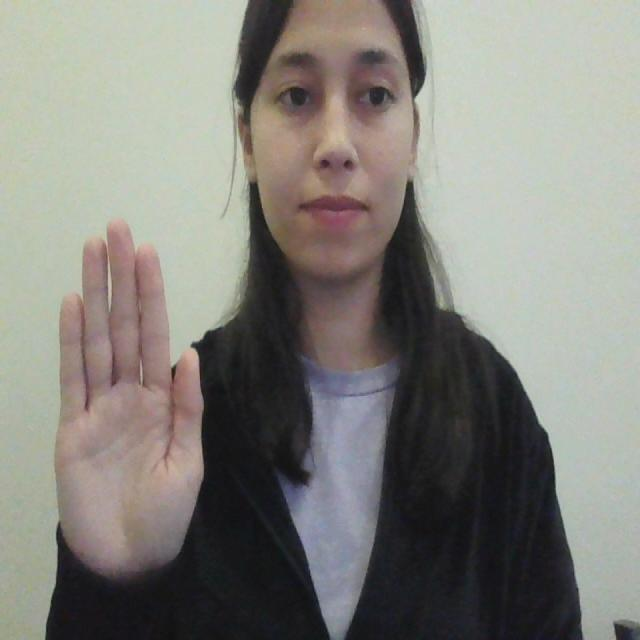Dur: (47, 199, 219, 588)
